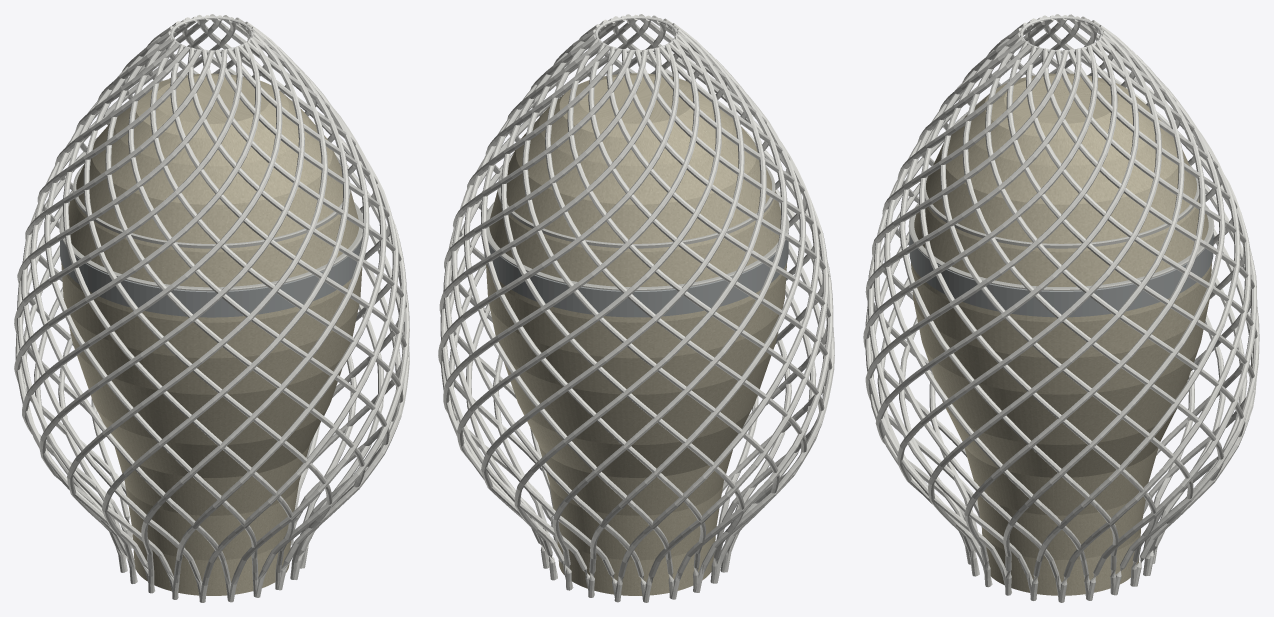
The model's file is maritime-tower-diamond-lattice-crown-near.glb.
3 views of the same model, side by side, from view 1: azimuth 30°, elevation 25°; view 2: azimuth 150°, elevation 25°; view 3: azimuth 270°, elevation 25° (orthographic).
Visible parts, largest first — view 1: 徐汇滨江海事瞭望塔塔冠的交叉菱格外网; view 2: 徐汇滨江海事瞭望塔塔冠的交叉菱格外网; view 3: 徐汇滨江海事瞭望塔塔冠的交叉菱格外网.
Boxes of the visible parts, bbox=[...] form: 徐汇滨江海事瞭望塔塔冠的交叉菱格外网: bbox=[14, 14, 409, 602]; 徐汇滨江海事瞭望塔塔冠的交叉菱格外网: bbox=[438, 14, 834, 602]; 徐汇滨江海事瞭望塔塔冠的交叉菱格外网: bbox=[863, 14, 1259, 602].
Size of the model in its own units: 2.25 by 3.34 by 2.25.
Materials: 5 (1 with a texture image).
